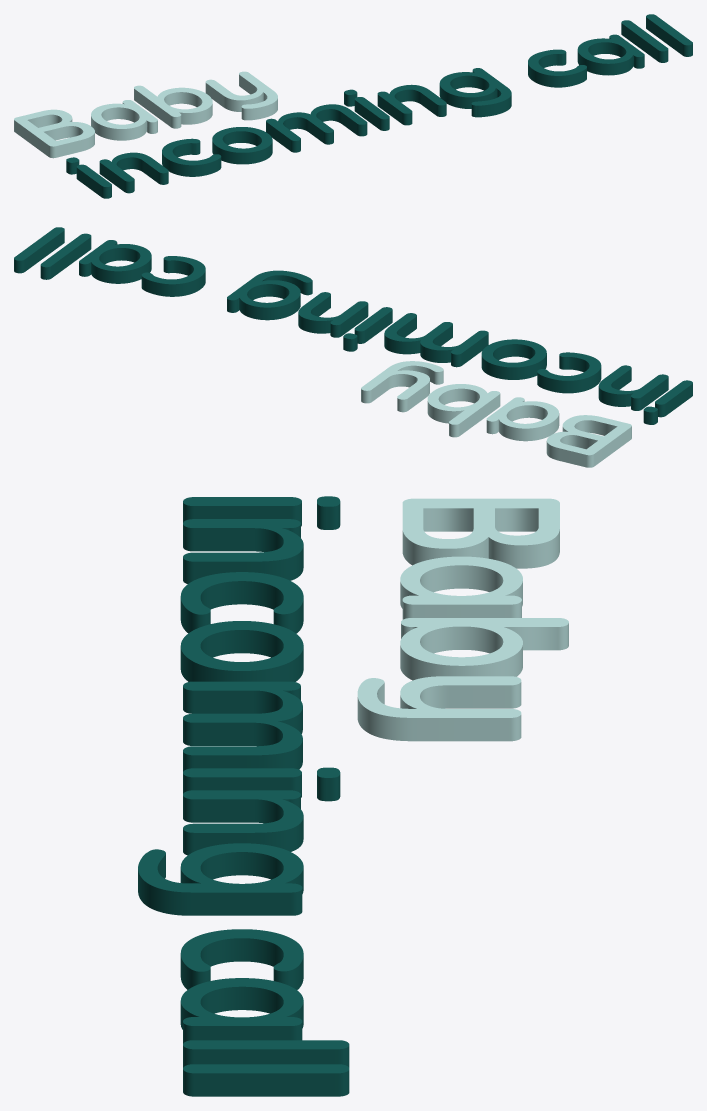
Rendered from Incomingcall.e8096b88.glb.
The picture shows the model from 3 angles, top to bottom: view 1: azimuth 30°, elevation 25°; view 2: azimuth 150°, elevation 25°; view 3: azimuth 270°, elevation 25°; orthographic projection. The views are drawn at different scales.
Visible parts, largest first — view 1: Text.001, Text; view 2: Text.001, Text; view 3: Text.001, Text.
Part boxes in pixels (x1,y1,x2,y2): Text.001: (66,14,692,198); Text: (14,71,277,158); Text.001: (14,227,692,424); Text: (361,361,631,467); Text.001: (138,496,349,1096); Text: (357,498,568,741).
Bounding box in the file's own units: 0.8989 × 0.0169 × 0.2837.
